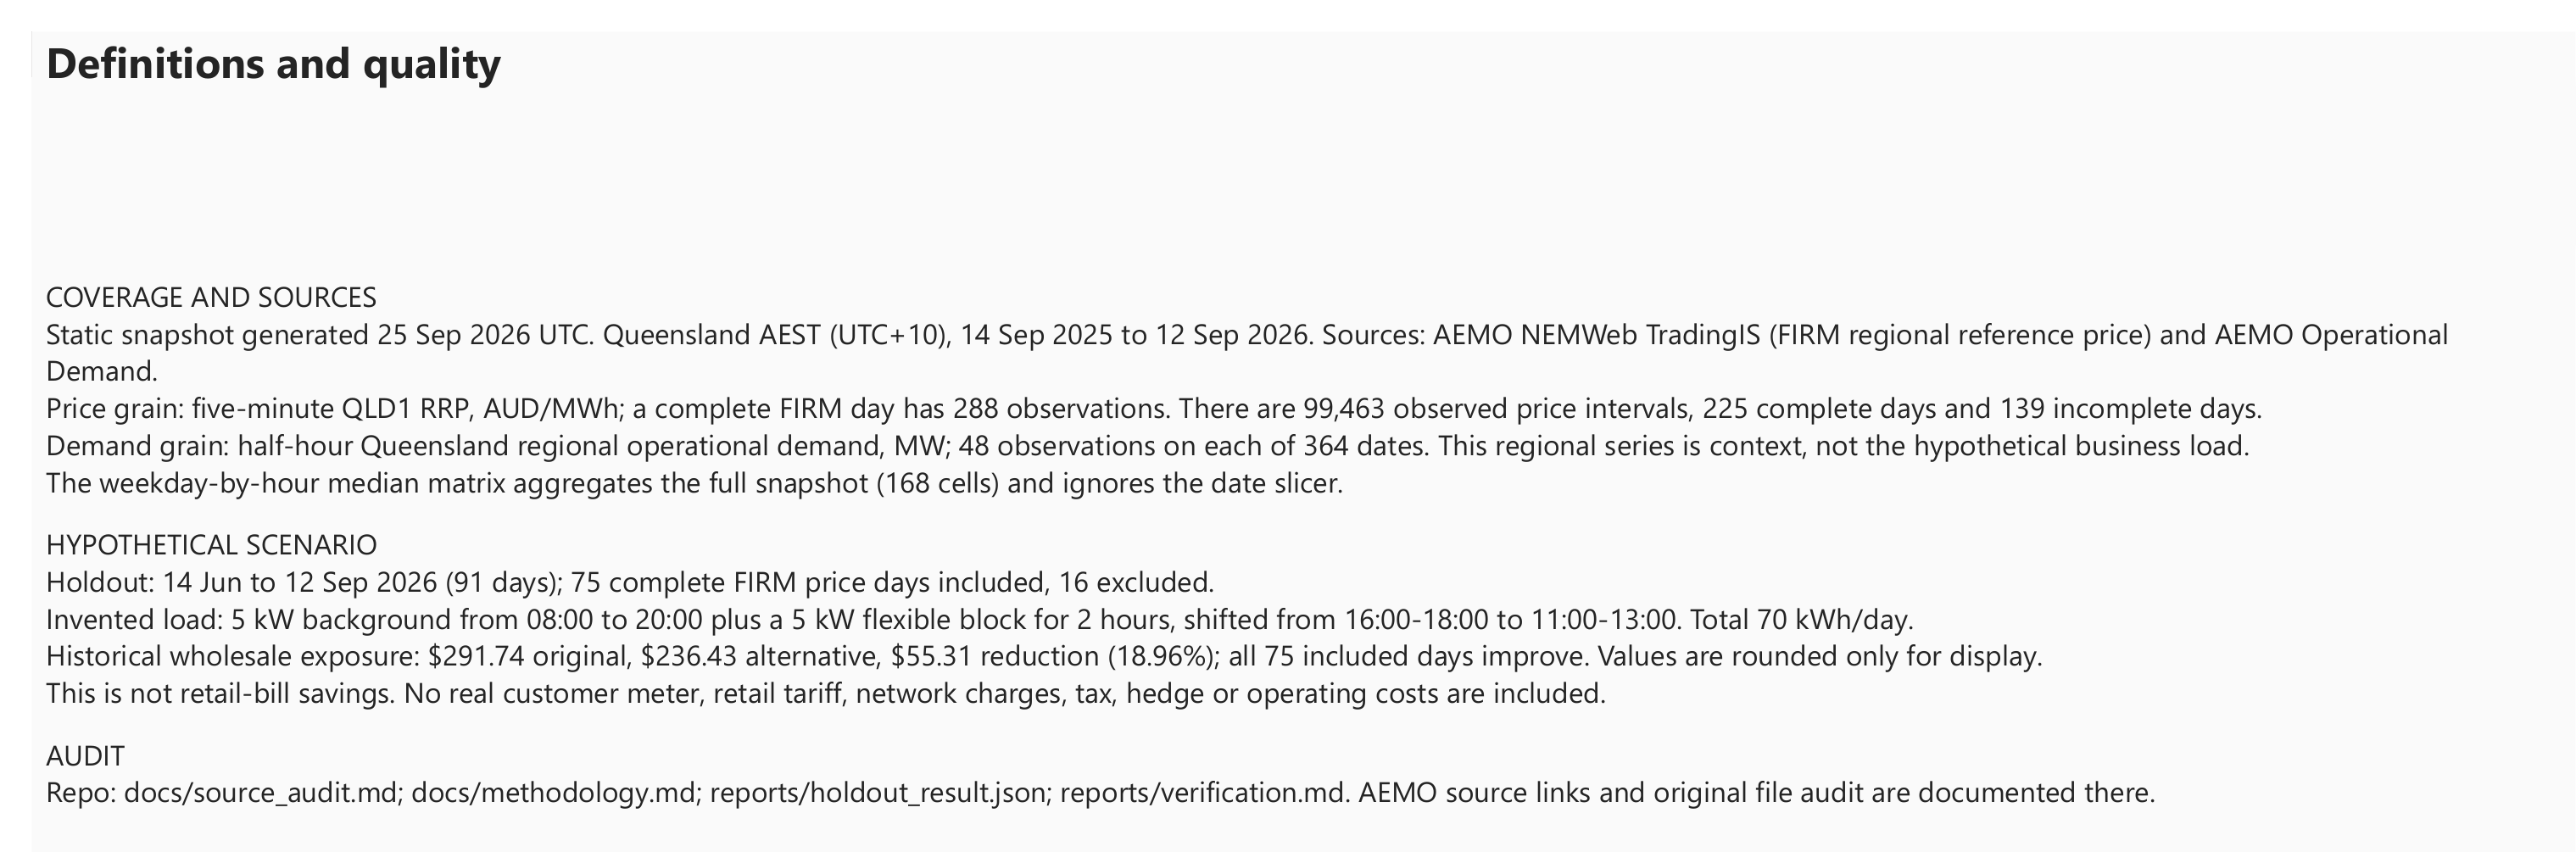

The dashboard page shown, as its layout file describes it:
{"tool":"powerbi","page":{"name":"Definitions","canvas":[1920,1080],"ordinal":3},"visuals":[{"type":"textbox","box":[10.8,0,1035.7,91.7],"z":0},{"type":"textbox","box":[10.8,185.2,1857.4,783.9],"z":1}]}

Visuals, with their boxes on the page's 1920x1080 design canvas (x1, y1, x2, y2). These are canvas units, not pixel positions in the 2576x852 screenshot, which may show the page scaled, cropped or inside an application window:
textbox: locate(11, 0, 1046, 92)
textbox: locate(11, 185, 1868, 969)
